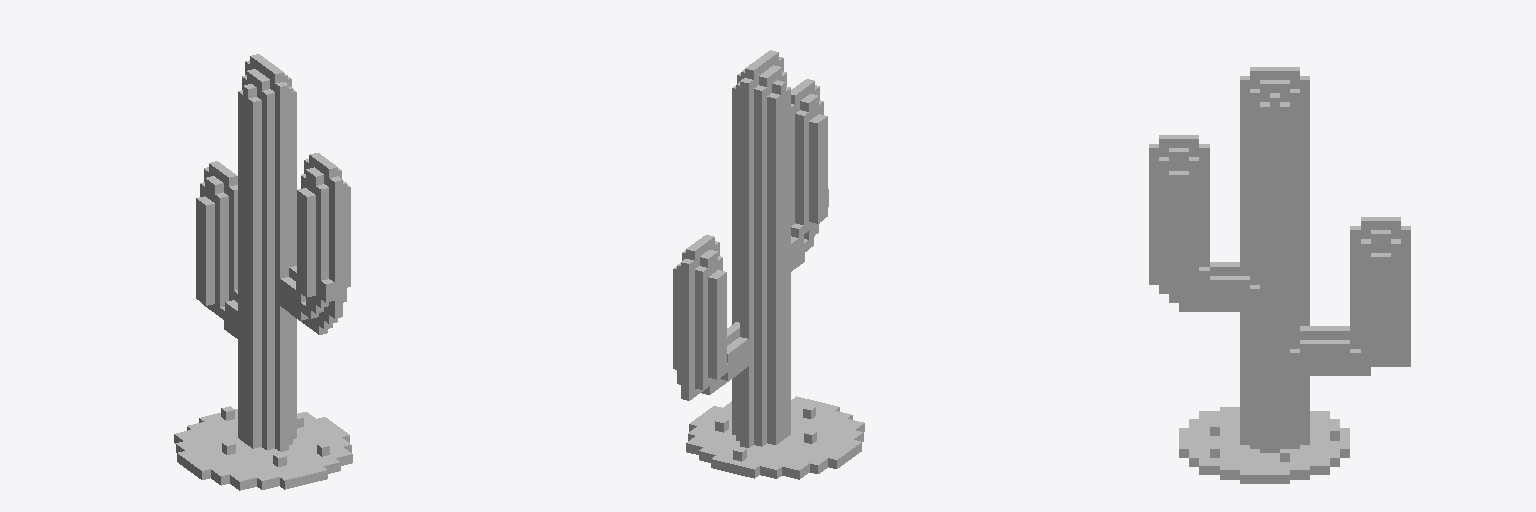
Rendered from Cactus.obj.
The picture shows the model from 3 angles: view 1: azimuth 30°, elevation 25°; view 2: azimuth 150°, elevation 25°; view 3: azimuth 270°, elevation 25°; orthographic projection.
Size of the model in its own units: 17 by 42 by 26.